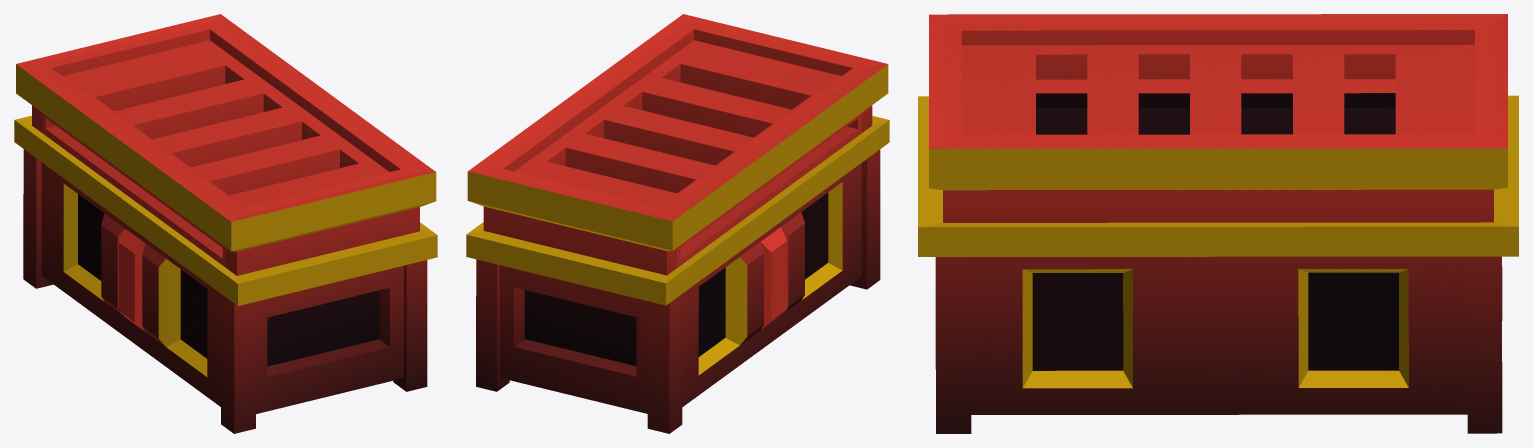
The model's file is Donation.fbx.
The picture shows the model from 3 angles, left to right: view 1: azimuth 30°, elevation 25°; view 2: azimuth 150°, elevation 25°; view 3: azimuth 270°, elevation 25°; orthographic projection. The views are drawn at different scales.
Visible parts, largest first — view 1: Cube; view 2: Cube; view 3: Cube.
Boxes of the visible parts, x1,y1,x2,y2 form: Cube: (14,14,437,433); Cube: (466,14,889,433); Cube: (918,14,1518,433).
Size of the model in its own units: 90.24 by 90.71 by 171.
Materials: 2 (1 with a texture image).
